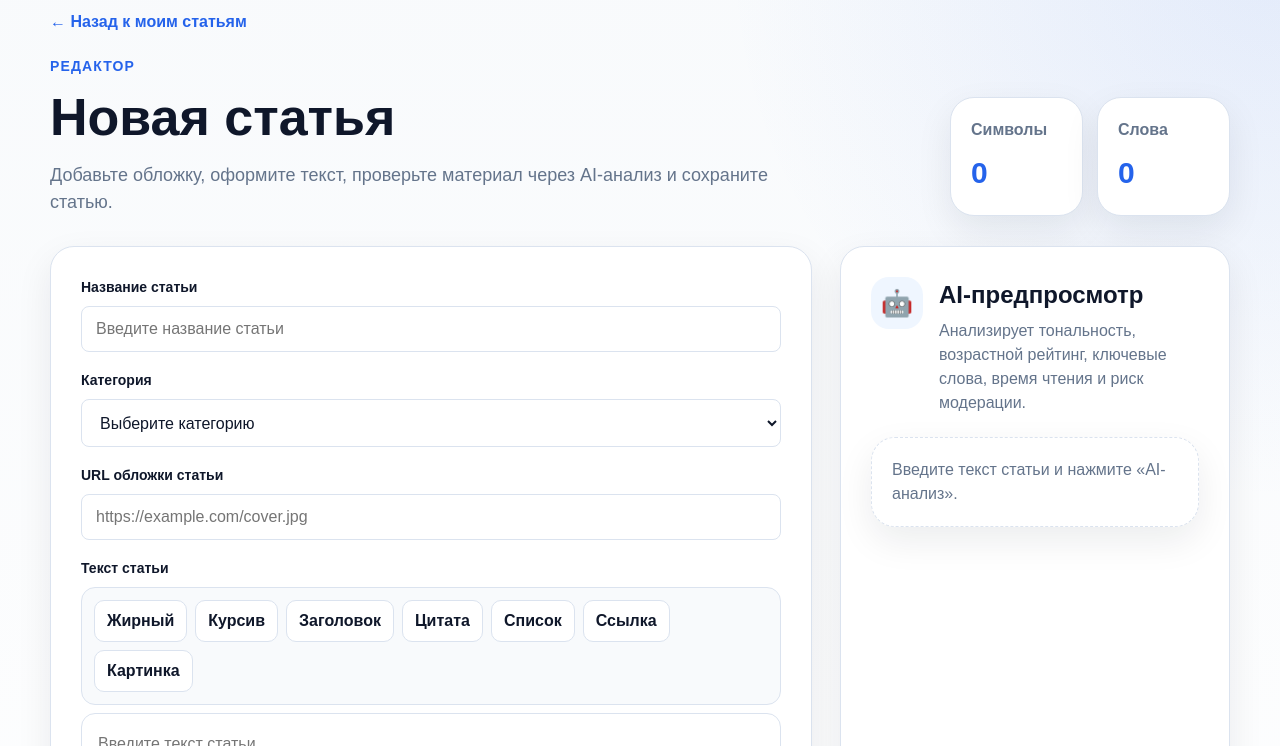
Test case: ArticleEditorPage › показывает результат AI-анализа
The image size is (1280, 746).
Expected: the heading "Новая статья" is shown, [50,88,395,146]
Type "Это полезная статья про технологии и обучение." into the button named "текст статьи" at (141, 621), box [94,600,187,642]
(page scrolled)
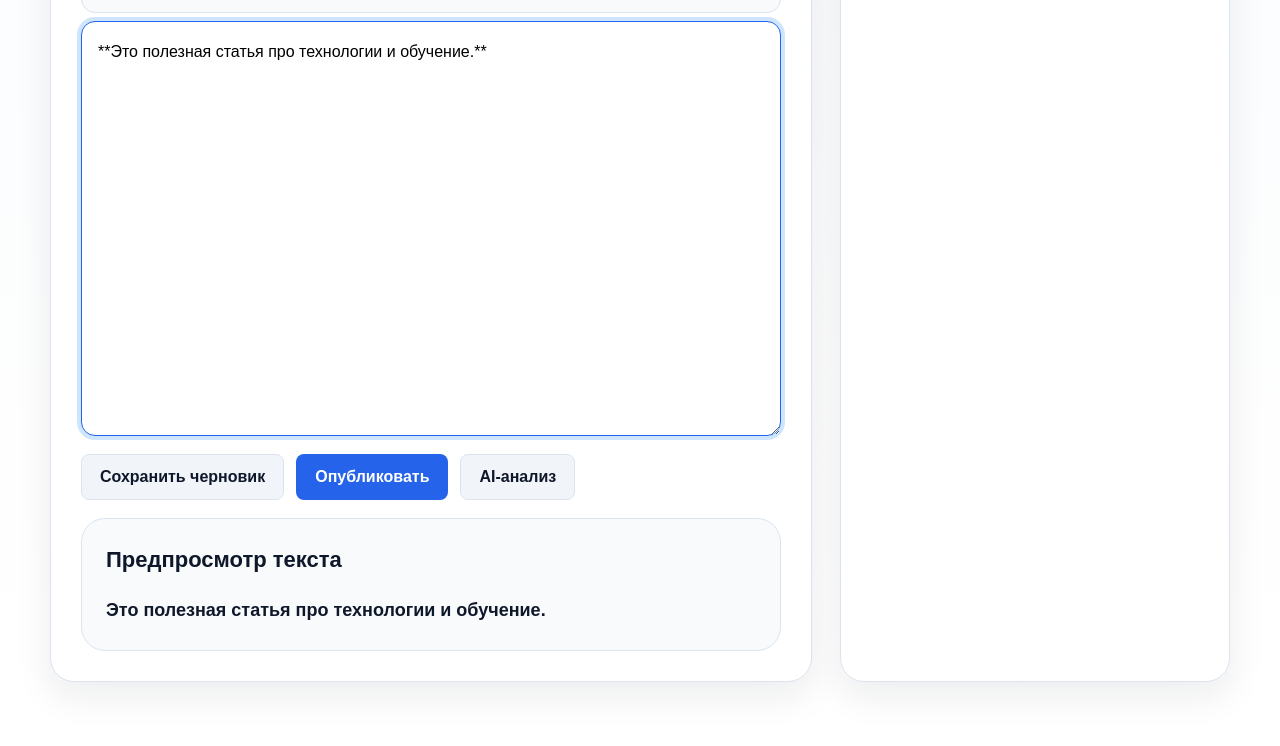
Click the button "AI-анализ" at (518, 477), box [460,454,575,500]
(page scrolled)
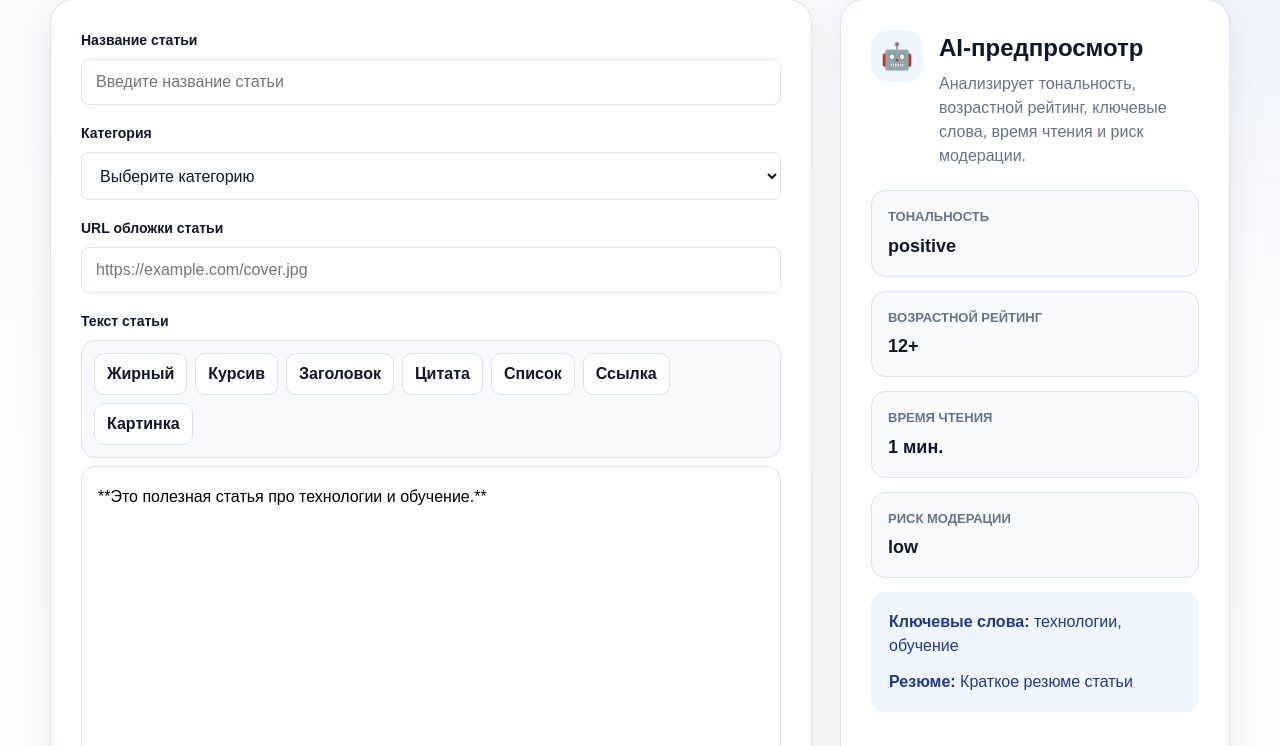
Expected: the text "Резюме: Краткое резюме статьи" is shown, [889,673,1133,690]
Expected: the text "positive" is shown, [888,236,956,256]
Expected: the text "12+" is shown, [888,336,918,356]
